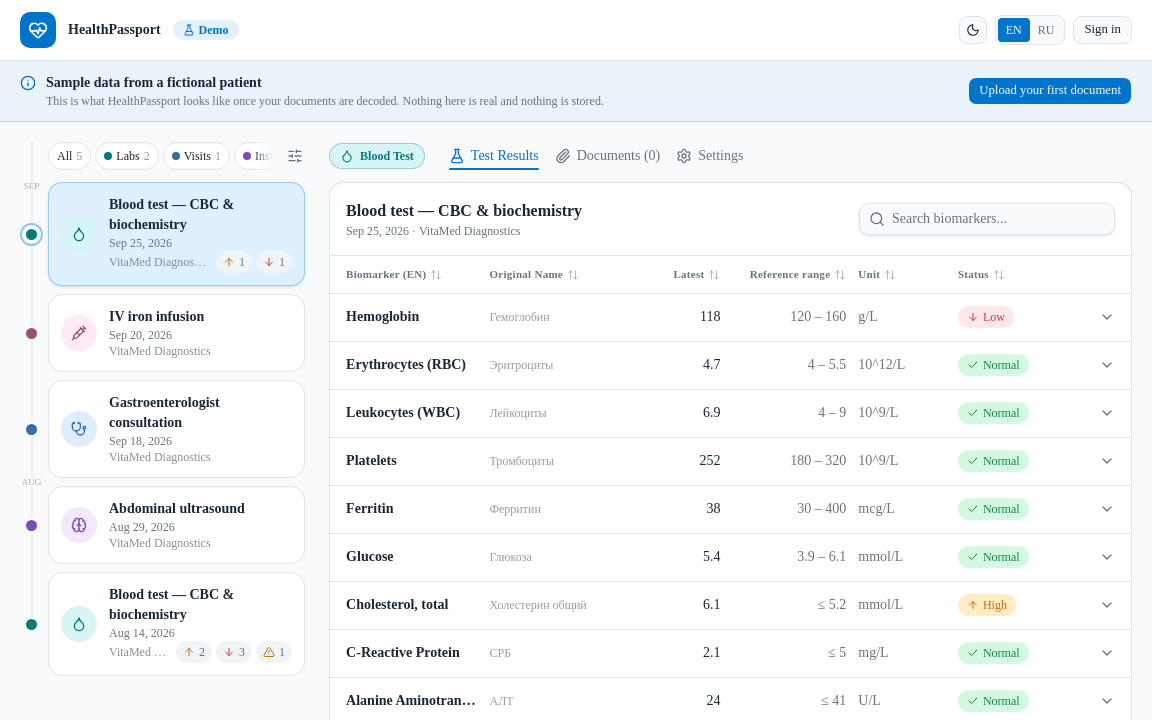
Test: DemoTimelineView › selecting the ultrasound renders its instrumental detail view
The width and height of the screenshot is (1152, 720).
Click the button "Abdominal ultrasound Aug 29, 2026 VitaMed Diagnostics" at (177, 525), box [48,486,305,564]
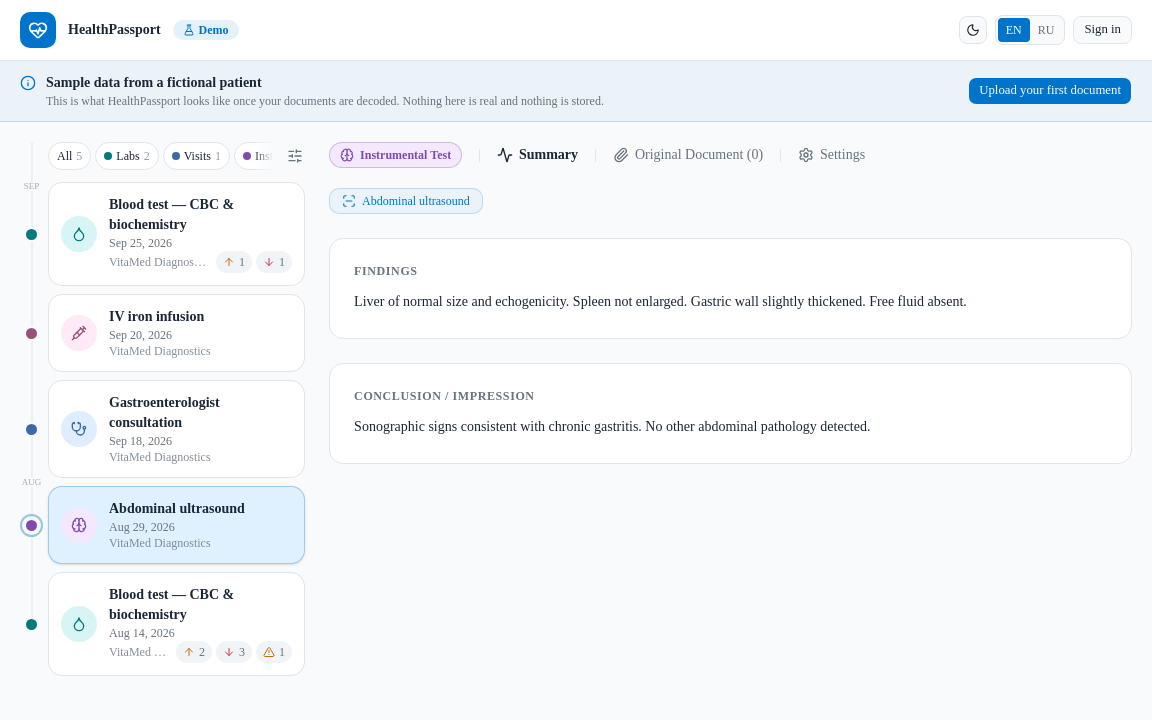
Expected: the text "Instrumental Test" is shown, [329,142,462,168]
Expected: the text "Sonographic signs consistent with chronic gastritis" is shown, [354,419,870,434]
